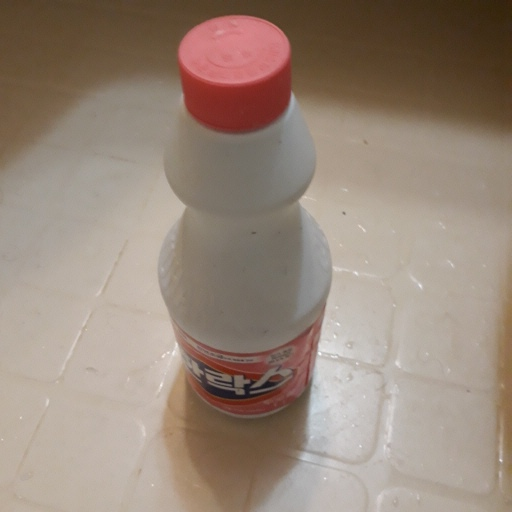Plastic_0: (157, 12, 332, 420)
